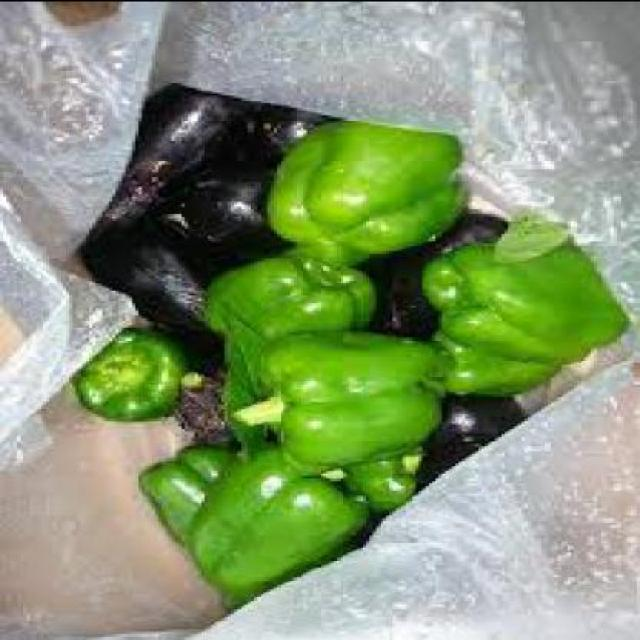BIODEGRADABLE: (137, 116, 260, 589), (267, 116, 353, 546), (359, 120, 436, 474), (419, 240, 624, 363), (251, 327, 435, 459), (206, 448, 356, 546), (79, 234, 383, 274), (145, 86, 207, 277), (422, 334, 552, 392), (116, 328, 184, 414), (139, 470, 244, 492)
